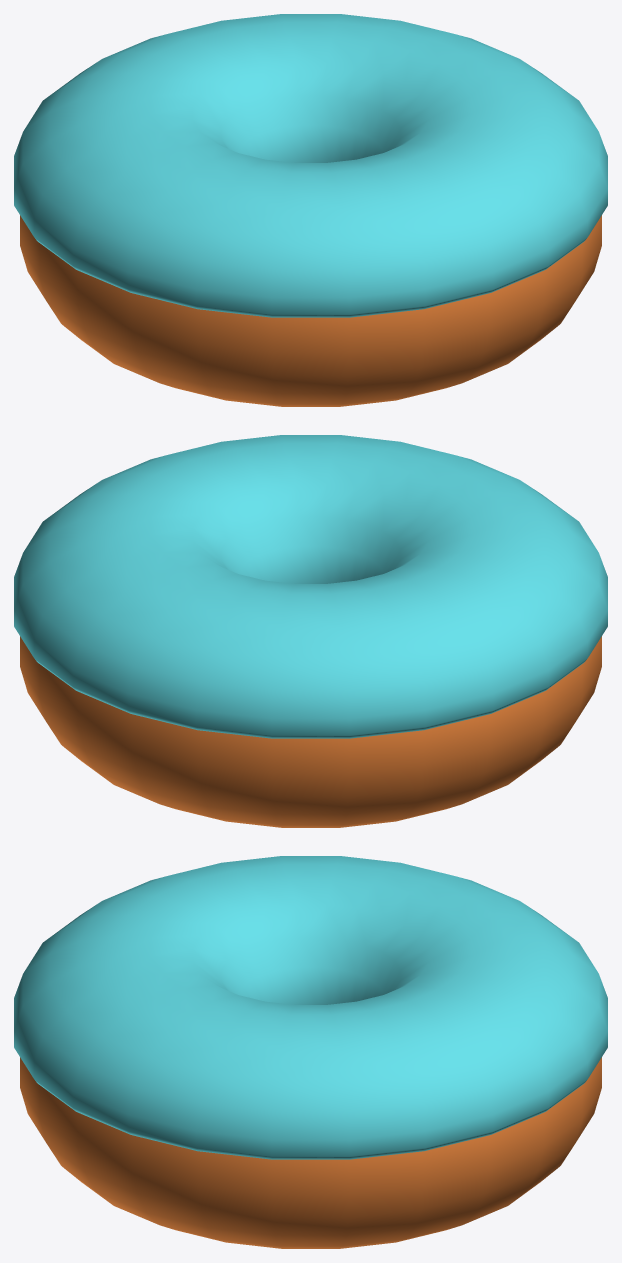
File: donut_01.fbx
3 renders of one model, top to bottom at view 1: azimuth 30°, elevation 25°; view 2: azimuth 150°, elevation 25°; view 3: azimuth 270°, elevation 25°, orthographic.
Parts seen in each view (by area): view 1: donut_01; view 2: donut_01; view 3: donut_01.
Boxes of the visible parts, bbox=[...] form: donut_01: bbox=[14, 14, 607, 406]; donut_01: bbox=[14, 435, 607, 827]; donut_01: bbox=[14, 856, 607, 1248].
Size of the model in its own units: 1716 by 688 by 1716.
